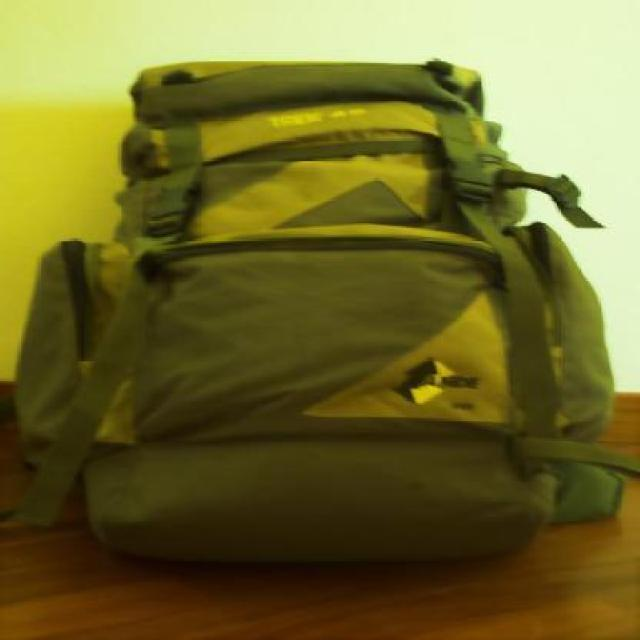backpack: (11, 49, 635, 580)
